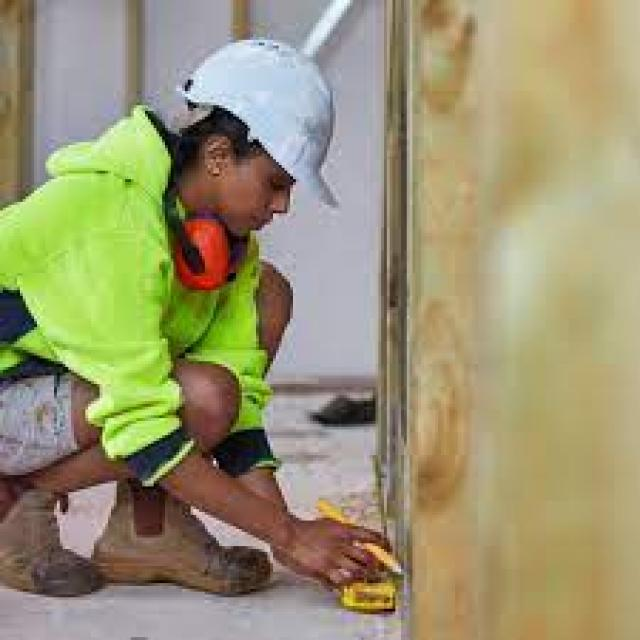Reflective-Jacket: (0, 136, 299, 484)
Safety-Helmet: (170, 31, 352, 205)
